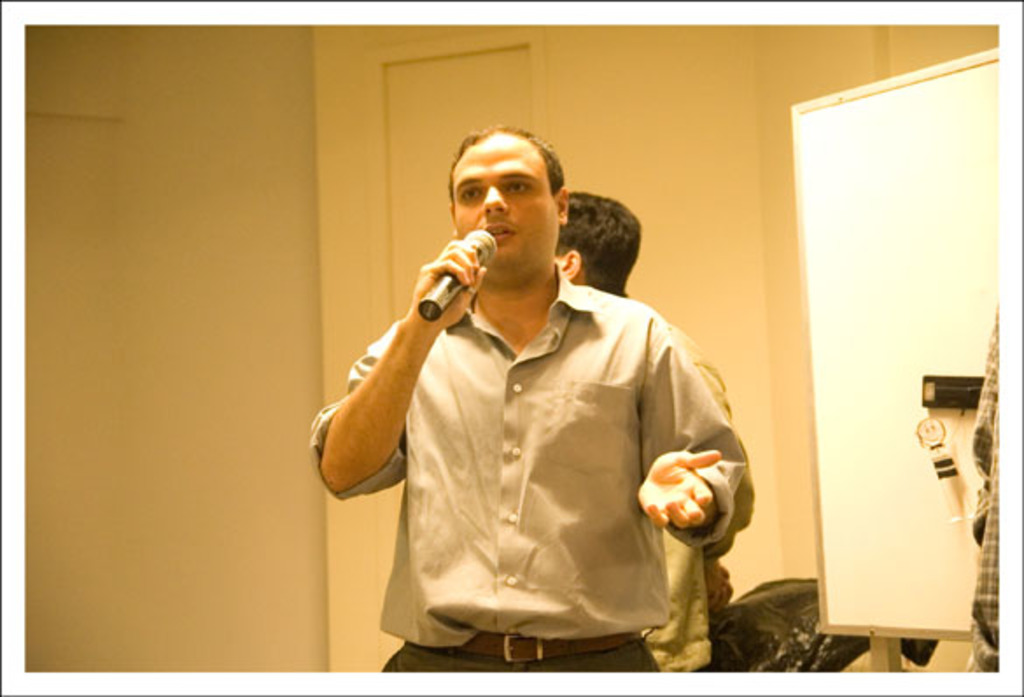Human_hand: (642, 445, 728, 550), (408, 238, 487, 333)
